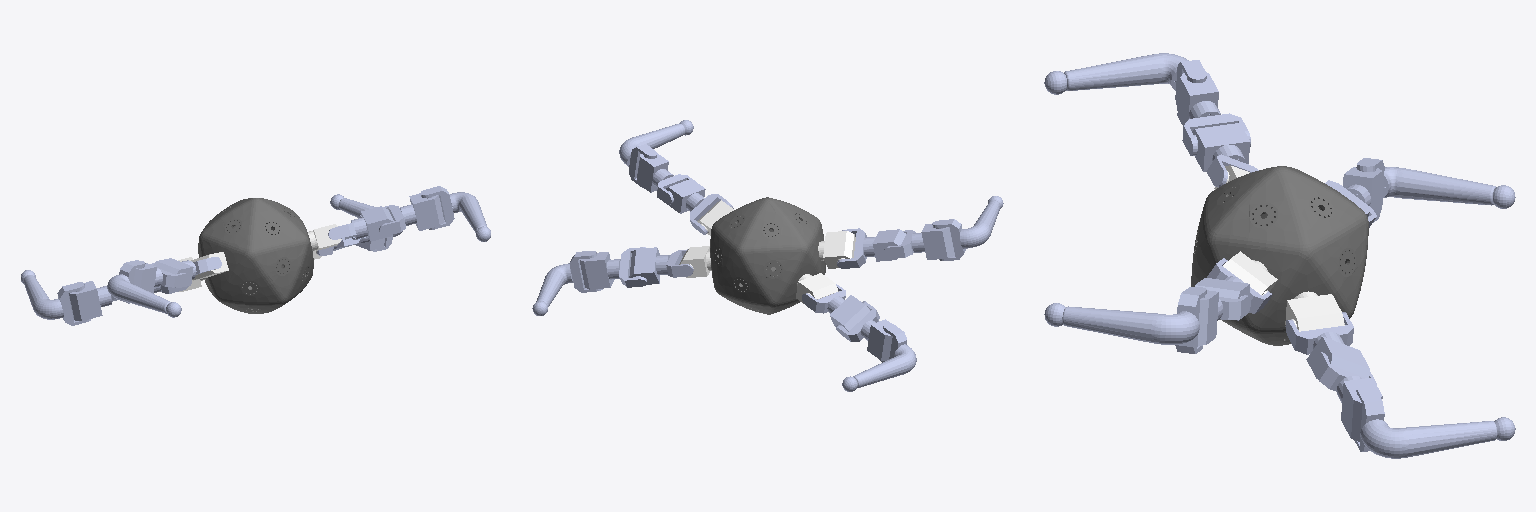
robot.urdf — mod_test:
<?xml version="1.0" encoding="utf-8"?>
<robot
  name="mod_test">
  <link
    name="base_link">
    <inertial>
      <origin
        xyz="-1.5226495220944E-06 1.5812928362389E-07 -5.05247252856584E-07"
        rpy="0 0 0" />
      <mass
        value="0.422806992949252" />
      <inertia
        ixx="0.00237499139253511"
        ixy="1.5717831530364E-08"
        ixz="1.49286265366169E-08"
        iyy="0.00237502154661776"
        iyz="-2.02154172619351E-08"
        izz="0.00237502595466009" />
    </inertial>
    <visual>
      <origin
        xyz="0 0 0"
        rpy="0 0 0" />
      <geometry>
        <mesh
          filename="package://meshes/base_link.STL" />
      </geometry>
      <material
        name="">
        <color
          rgba="0.498039215686275 0.498039215686275 0.498039215686275 1" />
      </material>
    </visual>
    <collision>
      <origin
        xyz="0 0 0"
        rpy="0 0 0" />
      <geometry>
        <mesh
          filename="package://meshes/base_link.STL" />
      </geometry>
    </collision>
  </link>
  <link
   name="110">
   <inertial>
      <origin
        xyz="0 0 0.028508"
        rpy="0 0 0" />
      <mass
        value="0.076173" />
      <inertia
        ixx="3.054E-05"
        ixy="0.000000"
        ixz="0.000000"
        iyy="2.1077E-05"
        iyz="0.000000"
        izz="2.1165E-05" />
    </inertial>
    <visual>
      <origin
        xyz="0 0 0"
        rpy="0 0 0" />
      <geometry>
        <mesh
          filename="package://meshes/1.STL" />
      </geometry>
      <material
        name="">
        <color
          rgba="1 1 1 1" />
      </material>
    </visual>
    <collision>
      <origin
        xyz="0 0 0"
        rpy="0 0 0" />
      <geometry>
        <mesh
          filename="package://meshes/1.STL" />
      </geometry>
    </collision>
  </link>
  <joint
    name="body_110"
    type="fixed">
    <origin
        xyz="0.083523 0.027138 -0.016769"
        rpy="3.141593 -1.382126 0.314159" />
    <parent
      link="base_link" />
    <child
      link="110" />
    <axis
      xyz="0 0 0" />
  </joint>
  <link
    name="111">
    <inertial>
      <origin
        xyz="0.060018 -1.4108E-06 1.4108E-06"
        rpy="0 0 0" />
    <mass
        value="0.10689" />
      <inertia
        ixx="3.2684e-05"
        ixy="-2.5662e-09"
        ixz="2.5662e-09"
        iyy="9.1229e-05"
        iyz="-4.0975e-06"
        izz="7.7485e-05" />
    </inertial>
    <visual>
      <origin
        xyz="0 0 0"
        rpy="0 0 0" />
      <geometry>
        <mesh
          filename="package://meshes/module11.STL" />
      </geometry>
      <material
        name="">
        <color
          rgba="0.79216 0.81961 0.93333 1" />
      </material>
    </visual>
    <collision>
      <origin
        xyz="0 0 0"
        rpy="0 0 0" />
      <geometry>
        <mesh
          filename="package://meshes/module11.STL" />
      </geometry>
    </collision>
  </link>
  <joint
    name="110_111"
    type="revolute">
    <origin
      xyz="0 0 0.04"
      rpy="-1.558 -1.5708 -0.012835" />
    <parent
      link="110" />
    <child
      link="111" />
    <axis
      xyz="0 0 1" />
    <limit
      lower="-6.28"
      upper="6.28"
      effort="10"
      velocity="100" />
  </joint>
  <link
    name="112">
    <inertial>
      <origin
        xyz="0.060018 -1.4108E-06 1.4108E-06"
        rpy="0 0 0" />
    <mass
        value="0.10689" />
      <inertia
        ixx="3.2241e-05"
        ixy="3.5298e-07"
        ixz="2.0781e-07"
        iyy="8.5969e-05"
        iyz="-3.9192e-06"
        izz="8.1482e-05" />
    </inertial>
    <visual>
      <origin
        xyz="0 0 0"
        rpy="0 0 0" />
      <geometry>
        <mesh
          filename="package://meshes/module4.STL" />
      </geometry>
      <material
        name="">
        <color
          rgba="0.79216 0.81961 0.93333 1" />
      </material>
    </visual>
    <collision>
      <origin
        xyz="0 0 0"
        rpy="0 0 0" />
      <geometry>
        <mesh
          filename="package://meshes/module4.STL" />
      </geometry>
    </collision>
  </link>
  <joint
    name="111_112"
    type="revolute">
    <origin
      xyz="0.0816 0 0"
      rpy="5.759587 0 0" />
    <parent
      link="111" />
    <child
      link="112" />
    <axis
      xyz="0 0 1" />
    <limit
      lower="-6.28"
      upper="6.28"
      effort="10"
      velocity="100" />
  </joint>
  <link
    name="113">
    <inertial>
      <origin
        xyz="0.051733 -0.042281 -1.3878E-17"
        rpy="0 0 0" />
    <mass
        value="0.12059" />
      <inertia
        ixx="0.00025425"
        ixy="4.8319E-05"
        ixz="0"
        iyy="5.0194E-05"
        iyz="-3.3141E-21"
        izz="0.00027482" />
    </inertial>
    <visual>
      <origin
        xyz="0 0 0"
        rpy="0 0 0" />
      <geometry>
        <mesh
          filename="package://meshes/leg.STL" />
      </geometry>
      <material
        name="">
        <color
          rgba="0.79216 0.81961 0.93333 1" />
      </material>
    </visual>
    <collision>
      <origin
        xyz="0 0 0"
        rpy="0 0 0" />
      <geometry>
        <mesh
          filename="package://meshes/leg.STL" />
      </geometry>
    </collision>
  </link>
  <joint
    name="112_113"
    type="revolute">
    <origin
      xyz="0.0816 0 0"
      rpy="2.094395 0 0" />
    <parent
      link="112" />
    <child
      link="113" />
    <axis
      xyz="0 0 1" />
    <limit
      lower="-6.28"
      upper="6.28"
      effort="10"
      velocity="100" />
  </joint>
  <link
   name="60">
   <inertial>
      <origin
        xyz="0 0 0.028508"
        rpy="0 0 0" />
      <mass
        value="0.076173" />
      <inertia
        ixx="3.054E-05"
        ixy="0.000000"
        ixz="-0.000000"
        iyy="2.1077E-05"
        iyz="-0.000000"
        izz="2.1165E-05" />
    </inertial>
    <visual>
      <origin
        xyz="0 0 0"
        rpy="0 0 0" />
      <geometry>
        <mesh
          filename="package://meshes/1.STL" />
      </geometry>
      <material
        name="">
        <color
          rgba="1 1 1 1" />
      </material>
    </visual>
    <collision>
      <origin
        xyz="0 0 0"
        rpy="0 0 0" />
      <geometry>
        <mesh
          filename="package://meshes/1.STL" />
      </geometry>
    </collision>
  </link>
  <joint
    name="body_60"
    type="fixed">
    <origin
        xyz="0.083523 -0.027138 0.016769"
        rpy="1.206006 -1.017234 1.570734" />
    <parent
      link="base_link" />
    <child
      link="60" />
    <axis
      xyz="0 0 0" />
  </joint>
  <link
    name="61">
    <inertial>
      <origin
        xyz="0.060018 -1.4108E-06 1.4108E-06"
        rpy="0 0 0" />
    <mass
        value="0.10689" />
      <inertia
        ixx="3.2684e-05"
        ixy="-2.5662e-09"
        ixz="2.5662e-09"
        iyy="9.1229e-05"
        iyz="4.0975e-06"
        izz="7.7485e-05" />
    </inertial>
    <visual>
      <origin
        xyz="0 0 0"
        rpy="0 0 0" />
      <geometry>
        <mesh
          filename="package://meshes/module1.STL" />
      </geometry>
      <material
        name="">
        <color
          rgba="0.79216 0.81961 0.93333 1" />
      </material>
    </visual>
    <collision>
      <origin
        xyz="0 0 0"
        rpy="0 0 0" />
      <geometry>
        <mesh
          filename="package://meshes/module1.STL" />
      </geometry>
    </collision>
  </link>
  <joint
    name="60_61"
    type="revolute">
    <origin
      xyz="0 0 0.04"
      rpy="-1.558 -1.5708 -0.012835" />
    <parent
      link="60" />
    <child
      link="61" />
    <axis
      xyz="0 0 1" />
    <limit
      lower="-6.28"
      upper="6.28"
      effort="10"
      velocity="100" />
  </joint>
  <link
    name="62">
    <inertial>
      <origin
        xyz="0.060018 -1.4108E-06 1.4108E-06"
        rpy="0 0 0" />
    <mass
        value="0.10689" />
      <inertia
        ixx="3.2684e-05"
        ixy="-2.5662e-09"
        ixz="2.5662e-09"
        iyy="8.4132e-05"
        iyz="-2.1275e-13"
        izz="8.4583e-05" />
    </inertial>
    <visual>
      <origin
        xyz="0 0 0"
        rpy="0 0 0" />
      <geometry>
        <mesh
          filename="package://meshes/module9.STL" />
      </geometry>
      <material
        name="">
        <color
          rgba="0.79216 0.81961 0.93333 1" />
      </material>
    </visual>
    <collision>
      <origin
        xyz="0 0 0"
        rpy="0 0 0" />
      <geometry>
        <mesh
          filename="package://meshes/module9.STL" />
      </geometry>
    </collision>
  </link>
  <joint
    name="61_62"
    type="revolute">
    <origin
      xyz="0.0816 0 0"
      rpy="0.523599 0 0" />
    <parent
      link="61" />
    <child
      link="62" />
    <axis
      xyz="0 0 1" />
    <limit
      lower="-6.28"
      upper="6.28"
      effort="10"
      velocity="100" />
  </joint>
  <link
    name="63">
    <inertial>
      <origin
        xyz="0.051733 -0.042281 -1.3878E-17"
        rpy="0 0 0" />
    <mass
        value="0.12059" />
      <inertia
        ixx="0.00025425"
        ixy="4.8319E-05"
        ixz="0"
        iyy="5.0194E-05"
        iyz="-3.3141E-21"
        izz="0.00027482" />
    </inertial>
    <visual>
      <origin
        xyz="0 0 0"
        rpy="0 0 0" />
      <geometry>
        <mesh
          filename="package://meshes/leg.STL" />
      </geometry>
      <material
        name="">
        <color
          rgba="0.79216 0.81961 0.93333 1" />
      </material>
    </visual>
    <collision>
      <origin
        xyz="0 0 0"
        rpy="0 0 0" />
      <geometry>
        <mesh
          filename="package://meshes/leg.STL" />
      </geometry>
    </collision>
  </link>
  <joint
    name="62_63"
    type="revolute">
    <origin
      xyz="0.0816 0 0"
      rpy="4.712389 0 0" />
    <parent
      link="62" />
    <child
      link="63" />
    <axis
      xyz="0 0 1" />
    <limit
      lower="-6.28"
      upper="6.28"
      effort="10"
      velocity="100" />
  </joint>
  <link
   name="90">
   <inertial>
      <origin
        xyz="0 0 0.028508"
        rpy="0 0 0" />
      <mass
        value="0.076173" />
      <inertia
        ixx="3.054E-05"
        ixy="0.000000"
        ixz="0.000000"
        iyy="2.1077E-05"
        iyz="0.000021"
        izz="2.1165E-05" />
    </inertial>
    <visual>
      <origin
        xyz="0 0 0"
        rpy="0 0 0" />
      <geometry>
        <mesh
          filename="package://meshes/1.STL" />
      </geometry>
      <material
        name="">
        <color
          rgba="1 1 1 1" />
      </material>
    </visual>
    <collision>
      <origin
        xyz="0 0 0"
        rpy="0 0 0" />
      <geometry>
        <mesh
          filename="package://meshes/1.STL" />
      </geometry>
    </collision>
  </link>
  <joint
    name="body_90"
    type="fixed">
    <origin
        xyz="-0.083523 -0.027138 0.016769"
        rpy="-1.206006 -1.017234 1.570859" />
    <parent
      link="base_link" />
    <child
      link="90" />
    <axis
      xyz="0 0 0" />
  </joint>
  <link
    name="91">
    <inertial>
      <origin
        xyz="0.060018 -1.4108E-06 1.4108E-06"
        rpy="0 0 0" />
    <mass
        value="0.10689" />
      <inertia
        ixx="3.2684e-05"
        ixy="-2.5662e-09"
        ixz="2.5662e-09"
        iyy="9.1229e-05"
        iyz="-4.0975e-06"
        izz="7.7485e-05" />
    </inertial>
    <visual>
      <origin
        xyz="0 0 0"
        rpy="0 0 0" />
      <geometry>
        <mesh
          filename="package://meshes/module11.STL" />
      </geometry>
      <material
        name="">
        <color
          rgba="0.79216 0.81961 0.93333 1" />
      </material>
    </visual>
    <collision>
      <origin
        xyz="0 0 0"
        rpy="0 0 0" />
      <geometry>
        <mesh
          filename="package://meshes/module11.STL" />
      </geometry>
    </collision>
  </link>
  <joint
    name="90_91"
    type="revolute">
    <origin
      xyz="0 0 0.04"
      rpy="-1.558 -1.5708 -0.012835" />
    <parent
      link="90" />
    <child
      link="91" />
    <axis
      xyz="0 0 1" />
    <limit
      lower="-6.28"
      upper="6.28"
      effort="10"
      velocity="100" />
  </joint>
  <link
    name="92">
    <inertial>
      <origin
        xyz="0.060018 -1.4108E-06 1.4108E-06"
        rpy="0 0 0" />
    <mass
        value="0.10689" />
      <inertia
        ixx="3.2684e-05"
        ixy="-2.5662e-09"
        ixz="2.5662e-09"
        iyy="8.4132e-05"
        iyz="-2.1275e-13"
        izz="8.4583e-05" />
    </inertial>
    <visual>
      <origin
        xyz="0 0 0"
        rpy="0 0 0" />
      <geometry>
        <mesh
          filename="package://meshes/module3.STL" />
      </geometry>
      <material
        name="">
        <color
          rgba="0.79216 0.81961 0.93333 1" />
      </material>
    </visual>
    <collision>
      <origin
        xyz="0 0 0"
        rpy="0 0 0" />
      <geometry>
        <mesh
          filename="package://meshes/module3.STL" />
      </geometry>
    </collision>
  </link>
  <joint
    name="91_92"
    type="revolute">
    <origin
      xyz="0.0816 0 0"
      rpy="5.759587 0 0" />
    <parent
      link="91" />
    <child
      link="92" />
    <axis
      xyz="0 0 1" />
    <limit
      lower="-6.28"
      upper="6.28"
      effort="10"
      velocity="100" />
  </joint>
  <link
    name="93">
    <inertial>
      <origin
        xyz="0.051733 -0.042281 -1.3878E-17"
        rpy="0 0 0" />
    <mass
        value="0.12059" />
      <inertia
        ixx="0.00025425"
        ixy="4.8319E-05"
        ixz="0"
        iyy="5.0194E-05"
        iyz="-3.3141E-21"
        izz="0.00027482" />
    </inertial>
    <visual>
      <origin
        xyz="0 0 0"
        rpy="0 0 0" />
      <geometry>
        <mesh
          filename="package://meshes/leg.STL" />
      </geometry>
      <material
        name="">
        <color
          rgba="0.79216 0.81961 0.93333 1" />
      </material>
    </visual>
    <collision>
      <origin
        xyz="0 0 0"
        rpy="0 0 0" />
      <geometry>
        <mesh
          filename="package://meshes/leg.STL" />
      </geometry>
    </collision>
  </link>
  <joint
    name="92_93"
    type="revolute">
    <origin
      xyz="0.0816 0 0"
      rpy="1.570796 0 0" />
    <parent
      link="92" />
    <child
      link="93" />
    <axis
      xyz="0 0 1" />
    <limit
      lower="-6.28"
      upper="6.28"
      effort="10"
      velocity="100" />
  </joint>
  <link
   name="130">
   <inertial>
      <origin
        xyz="0 0 0.028508"
        rpy="0 0 0" />
      <mass
        value="0.076173" />
      <inertia
        ixx="3.054E-05"
        ixy="0.000000"
        ixz="0.000000"
        iyy="2.1077E-05"
        iyz="0.000000"
        izz="2.1165E-05" />
    </inertial>
    <visual>
      <origin
        xyz="0 0 0"
        rpy="0 0 0" />
      <geometry>
        <mesh
          filename="package://meshes/1.STL" />
      </geometry>
      <material
        name="">
        <color
          rgba="1 1 1 1" />
      </material>
    </visual>
    <collision>
      <origin
        xyz="0 0 0"
        rpy="0 0 0" />
      <geometry>
        <mesh
          filename="package://meshes/1.STL" />
      </geometry>
    </collision>
  </link>
  <joint
    name="body_130"
    type="fixed">
    <origin
        xyz="-0.083523 0.027138 -0.016769"
        rpy="3.141593 -1.382126 2.827433" />
    <parent
      link="base_link" />
    <child
      link="130" />
    <axis
      xyz="0 0 0" />
  </joint>
  <link
    name="131">
    <inertial>
      <origin
        xyz="0.060018 -1.4108E-06 1.4108E-06"
        rpy="0 0 0" />
    <mass
        value="0.10689" />
      <inertia
        ixx="3.2684e-05"
        ixy="-2.5662e-09"
        ixz="2.5662e-09"
        iyy="9.1229e-05"
        iyz="4.0975e-06"
        izz="7.7485e-05" />
    </inertial>
    <visual>
      <origin
        xyz="0 0 0"
        rpy="0 0 0" />
      <geometry>
        <mesh
          filename="package://meshes/module1.STL" />
      </geometry>
      <material
        name="">
        <color
          rgba="0.79216 0.81961 0.93333 1" />
      </material>
    </visual>
    <collision>
      <origin
        xyz="0 0 0"
        rpy="0 0 0" />
      <geometry>
        <mesh
          filename="package://meshes/module1.STL" />
      </geometry>
    </collision>
  </link>
  <joint
    name="130_131"
    type="revolute">
    <origin
      xyz="0 0 0.04"
      rpy="-1.558 -1.5708 -0.012835" />
    <parent
      link="130" />
    <child
      link="131" />
    <axis
      xyz="0 0 1" />
    <limit
      lower="-6.28"
      upper="6.28"
      effort="10"
      velocity="100" />
  </joint>
  <link
    name="132">
    <inertial>
      <origin
        xyz="0.060018 -1.4108E-06 1.4108E-06"
        rpy="0 0 0" />
    <mass
        value="0.10689" />
      <inertia
        ixx="3.2684e-05"
        ixy="-2.5662e-09"
        ixz="2.5662e-09"
        iyy="8.6498e-05"
        iyz="4.0975e-06"
        izz="8.2217e-05" />
    </inertial>
    <visual>
      <origin
        xyz="0 0 0"
        rpy="0 0 0" />
      <geometry>
        <mesh
          filename="package://meshes/module8.STL" />
      </geometry>
      <material
        name="">
        <color
          rgba="0.79216 0.81961 0.93333 1" />
      </material>
    </visual>
    <collision>
      <origin
        xyz="0 0 0"
        rpy="0 0 0" />
      <geometry>
        <mesh
          filename="package://meshes/module8.STL" />
      </geometry>
    </collision>
  </link>
  <joint
    name="131_132"
    type="revolute">
    <origin
      xyz="0.0816 0 0"
      rpy="0.523599 0 0" />
    <parent
      link="131" />
    <child
      link="132" />
    <axis
      xyz="0 0 1" />
    <limit
      lower="-6.28"
      upper="6.28"
      effort="10"
      velocity="100" />
  </joint>
  <link
    name="133">
    <inertial>
      <origin
        xyz="0.051733 -0.042281 -1.3878E-17"
        rpy="0 0 0" />
    <mass
        value="0.12059" />
      <inertia
        ixx="0.00025425"
        ixy="4.8319E-05"
        ixz="0"
        iyy="5.0194E-05"
        iyz="-3.3141E-21"
        izz="0.00027482" />
    </inertial>
    <visual>
      <origin
        xyz="0 0 0"
        rpy="0 0 0" />
      <geometry>
        <mesh
          filename="package://meshes/leg.STL" />
      </geometry>
      <material
        name="">
        <color
          rgba="0.79216 0.81961 0.93333 1" />
      </material>
    </visual>
    <collision>
      <origin
        xyz="0 0 0"
        rpy="0 0 0" />
      <geometry>
        <mesh
          filename="package://meshes/leg.STL" />
      </geometry>
    </collision>
  </link>
  <joint
    name="132_133"
    type="revolute">
    <origin
      xyz="0.0816 0 0"
      rpy="4.188790 0 0" />
    <parent
      link="132" />
    <child
      link="133" />
    <axis
      xyz="0 0 1" />
    <limit
      lower="-6.28"
      upper="6.28"
      effort="10"
      velocity="100" />
  </joint>
  <link
    name = "ball_1">
    <inertial>
    <origin
        xyz="0 0 0"
        rpy="0 0 0" />
    <mass
        value="0" />
      <inertia
        ixx="0"
        ixy="0"
        ixz="0"
        iyy="0"
        iyz="0"
        izz="0" />
    </inertial>    <visual>
      <origin
        xyz="0 0 0"
        rpy="0 0 0" />
     <geometry>
        <sphere radius = "0.01"/>
      </geometry>
      <material
        name="green">
        <color
          rgba="0.22 1 0.4 1" />
      </material>
    </visual>
  </link>
  <joint
  name="113_ball1"
  type="fixed">
    <origin
      xyz="0.0612 -0.13431 0"
      rpy="0 0 0" />
    <parent
      link="113" />
    <child
      link="ball_1" />
    <axis
      xyz="0 0 0" />
  </joint>
  <link
    name = "ball_2">
    <inertial>
    <origin
        xyz="0 0 0"
        rpy="0 0 0" />
    <mass
        value="0" />
      <inertia
        ixx="0"
        ixy="0"
        ixz="0"
        iyy="0"
        iyz="0"
        izz="0" />
    </inertial>    <visual>
      <origin
        xyz="0 0 0"
        rpy="0 0 0" />
      <geometry>
        <sphere radius = "0.01"/>
      </geometry>
      <material
        name="blue">
        <color
          rgba="0.16 0.52 0.8 1" />
      </material>
    </visual>
  </link>
  <joint
  name="63_ball2"
  type="fixed">
    <origin
      xyz="0.0612 -0.13431 0"
      rpy="0 0 0" />
    <parent
      link="63" />
    <child
      link="ball_2" />
    <axis
      xyz="0 0 0" />
  </joint>
  <link
    name = "ball_3">
    <inertial>
    <origin
        xyz="0 0 0"
        rpy="0 0 0" />
    <mass
        value="0" />
      <inertia
        ixx="0"
        ixy="0"
        ixz="0"
        iyy="0"
        iyz="0"
        izz="0" />
    </inertial>    <visual>
      <origin
        xyz="0 0 0"
        rpy="0 0 0" />
     <geometry>
        <sphere radius = "0.01"/>
      </geometry>
      <material
        name="blue">
        <color
          rgba="0.16 0.52 0.8 1" />
      </material>
    </visual>
  </link>
  <joint
  name="93_ball3"
  type="fixed">
    <origin
      xyz="0.0612 -0.13431 0"
      rpy="0 0 0" />
    <parent
      link="93" />
    <child
      link="ball_3" />
    <axis
      xyz="0 0 0" />
  </joint>
  <link
    name = "ball_4">
    <inertial>
    <origin
        xyz="0 0 0"
        rpy="0 0 0" />
    <mass
        value="0" />
      <inertia
        ixx="0"
        ixy="0"
        ixz="0"
        iyy="0"
        iyz="0"
        izz="0" />
    </inertial>    <visual>
      <origin
        xyz="0 0 0"
        rpy="0 0 0" />
      <geometry>
        <sphere radius = "0.01"/>
      </geometry>
      <material
        name="yellow">
        <color
          rgba="1 1 0 1" />
      </material>
    </visual>
  </link>
  <joint
  name="133_ball4"
  type="fixed">
    <origin
      xyz="0.0612 -0.13431 0"
      rpy="0 0 0" />
    <parent
      link="133" />
    <child
      link="ball_4" />
    <axis
      xyz="0 0 0" />
  </joint>
</robot>

--- What the picture shows (computed from the rendered views, not written in the file) ---
3 views of the same robot in one strip: view 1: azimuth 30°, elevation 25°; view 2: azimuth 150°, elevation 25°; view 3: azimuth 270°, elevation 25° (orthographic).
Robot: mod_test — 21 links, 20 joints (12 revolute, 8 fixed); root link base_link; default pose: every joint at zero.
Visible links, largest first — view 1: base_link, 62, 93, 133, 63, 61, 132, 92, 91, 113; view 2: base_link, 133, 112, 92, 93, 63, 111, 113, 131, 61, 132, 91 (+4 smaller); view 3: base_link, 113, 63, 93, 133, 91, 111, 92, 112, 110, 62, 132 (+2 smaller).
Link boxes in pixels (box(x1,y1,x2,y2)): base_link: box(198, 198, 313, 313); 62: box(379, 193, 444, 235); 93: box(107, 260, 181, 317); 133: box(21, 270, 90, 325); 63: box(420, 186, 490, 241); 61: box(328, 206, 393, 241); 132: box(68, 281, 118, 320); 92: box(133, 263, 188, 293); 91: box(153, 257, 221, 287); 113: box(330, 194, 402, 251); base_link: box(710, 197, 825, 314); 133: box(842, 323, 916, 391); 112: box(579, 247, 646, 289); 92: box(883, 224, 954, 259); 93: box(932, 196, 1003, 260); 63: box(619, 120, 693, 187); 111: box(629, 247, 693, 284); 113: box(532, 251, 602, 315); 131: box(802, 284, 870, 331); 61: box(666, 178, 733, 234); 132: box(836, 301, 892, 360); 91: box(837, 228, 905, 268); base_link: box(1191, 166, 1368, 345); 113: box(1354, 383, 1515, 458); 63: box(1044, 287, 1206, 353); 93: box(1044, 53, 1206, 110); 133: box(1356, 158, 1515, 222); 91: box(1192, 123, 1258, 187); 111: box(1285, 312, 1369, 378); 92: box(1177, 72, 1250, 155); 112: box(1311, 351, 1382, 441); 110: box(1285, 291, 1344, 331); 62: box(1198, 290, 1250, 345); 132: box(1325, 167, 1382, 227).
Size in the robot's own frame: 0.6825 by 0.4956 by 0.2045 metres.
17 mesh visuals loaded from 9 distinct referenced files (9 binary STL).